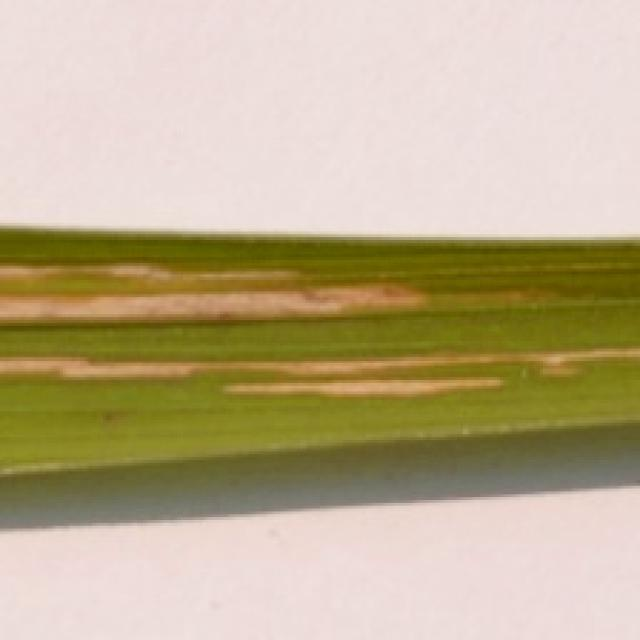Unhealthy: (0, 346, 640, 381), (0, 283, 430, 324), (0, 262, 309, 288), (222, 379, 504, 399)
